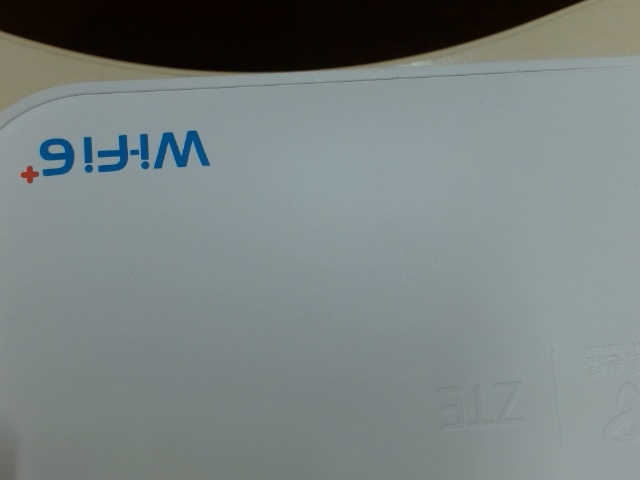AJ_ZTEWIFI6Plus: (15, 124, 220, 189)
